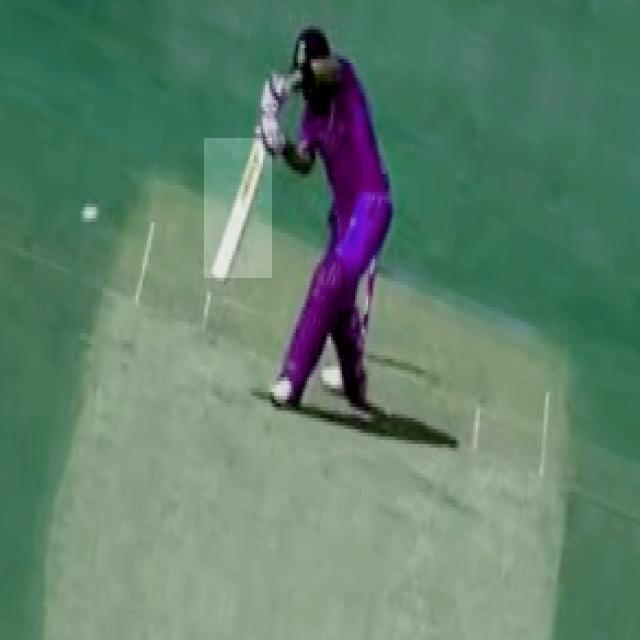bat: (201, 138, 273, 279)
toe: (204, 268, 232, 288)
